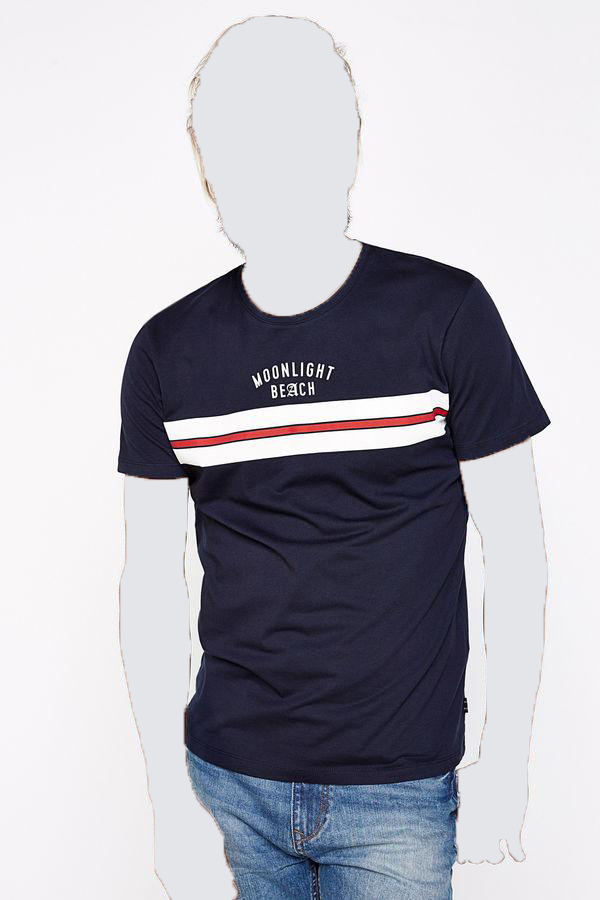teeshirt: (114, 236, 557, 781)
